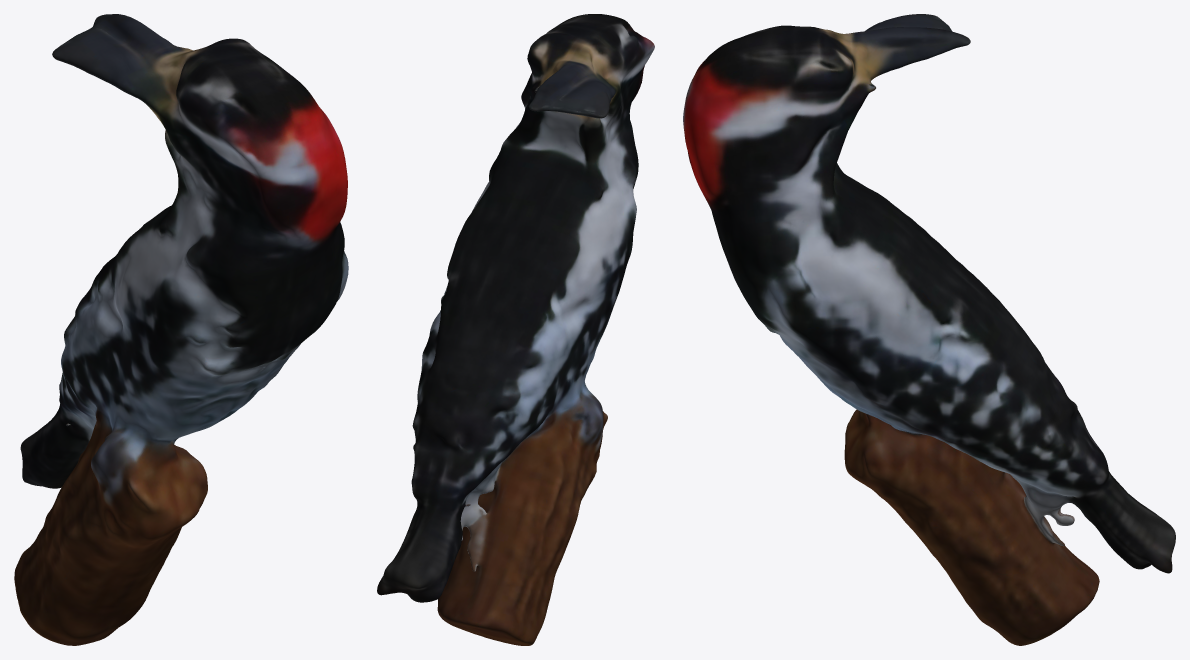
File: db96878a5a10_woodpecker__3d_asset_0_glb.glb
3 renders of one model, left to right at view 1: azimuth 30°, elevation 25°; view 2: azimuth 150°, elevation 25°; view 3: azimuth 270°, elevation 25°, orthographic. The views are drawn at different scales.
Visible parts, largest first — view 1: world; view 2: world; view 3: world.
Boxes of the visible parts, left/top/right/bottom form: world: left=14, top=14, right=348, bottom=645; world: left=377, top=14, right=654, bottom=645; world: left=683, top=14, right=1175, bottom=645.
Size of the model in its own units: 0.1849 by 0.5479 by 0.3993.
1 material, 1 textured.
